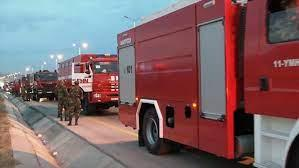Fire-engine: (56, 57, 118, 109)
